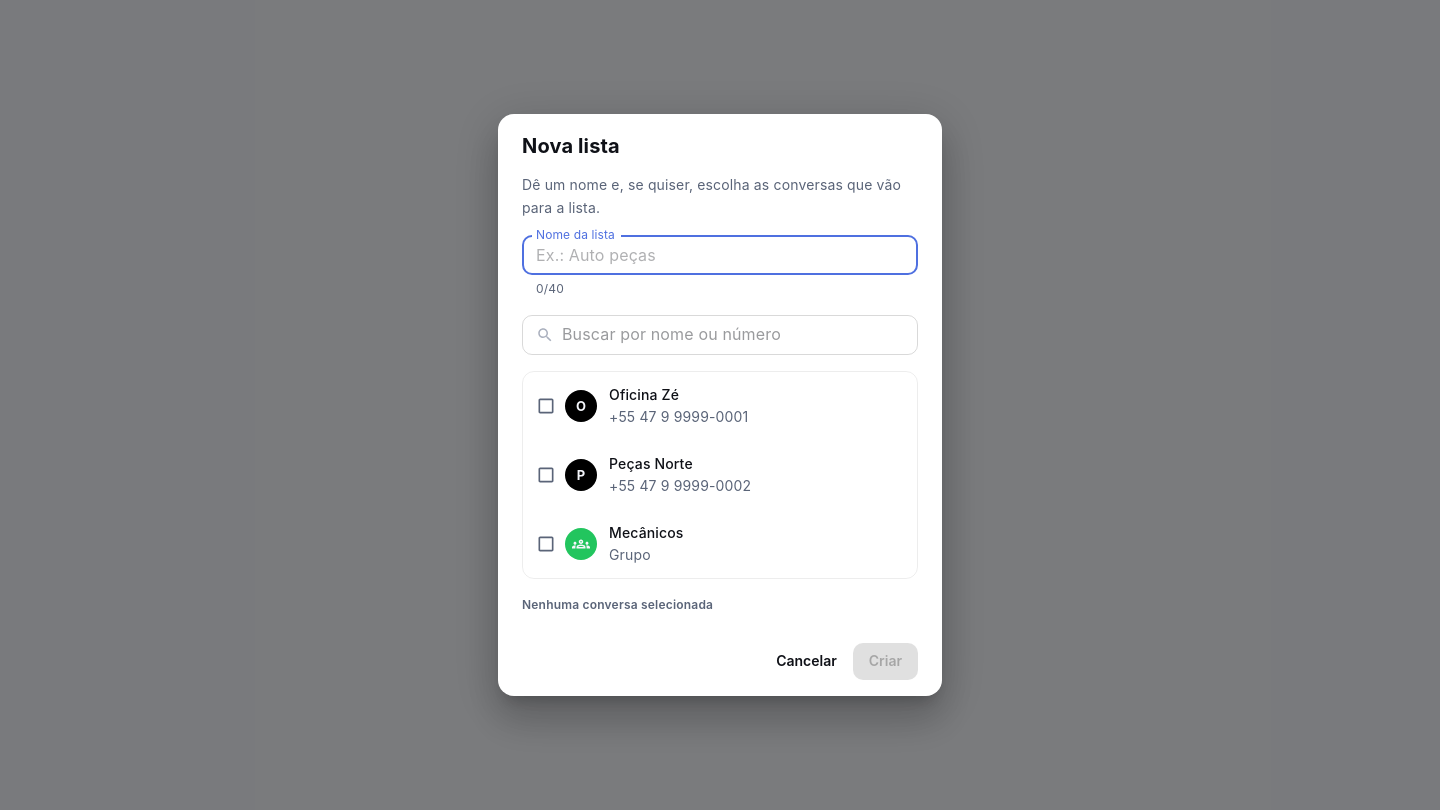
Test: NewListDialog › filtra as conversas pela busca
Type "norte" into the field named "Buscar conversa" at (740, 335), box [562,315,918,355]
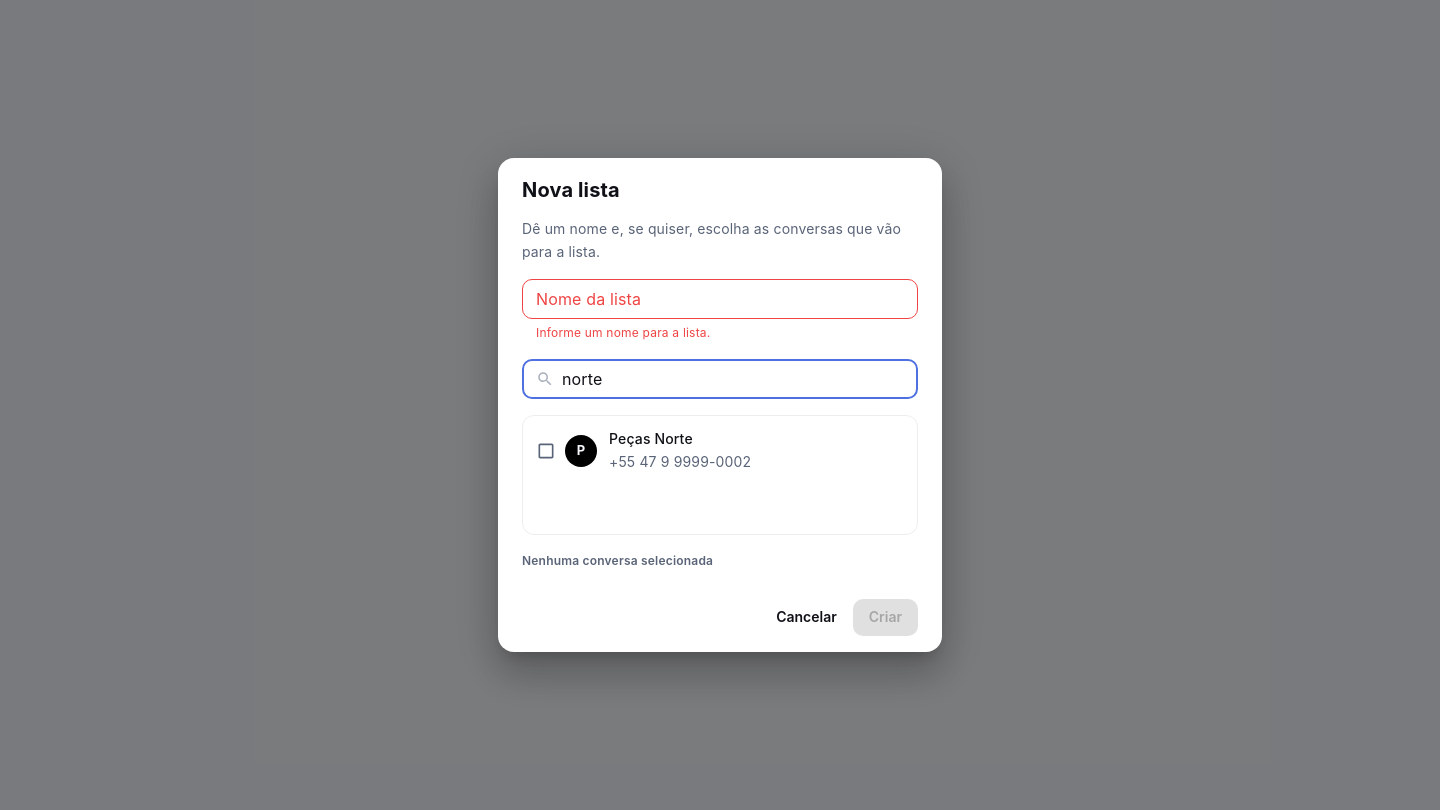
Check: the text "Peças Norte" is shown, box [609,430,693,447]
Check: the checkbox "Oficina Zé" is gone
